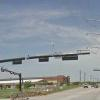Traffic light: (23, 52, 85, 70)
